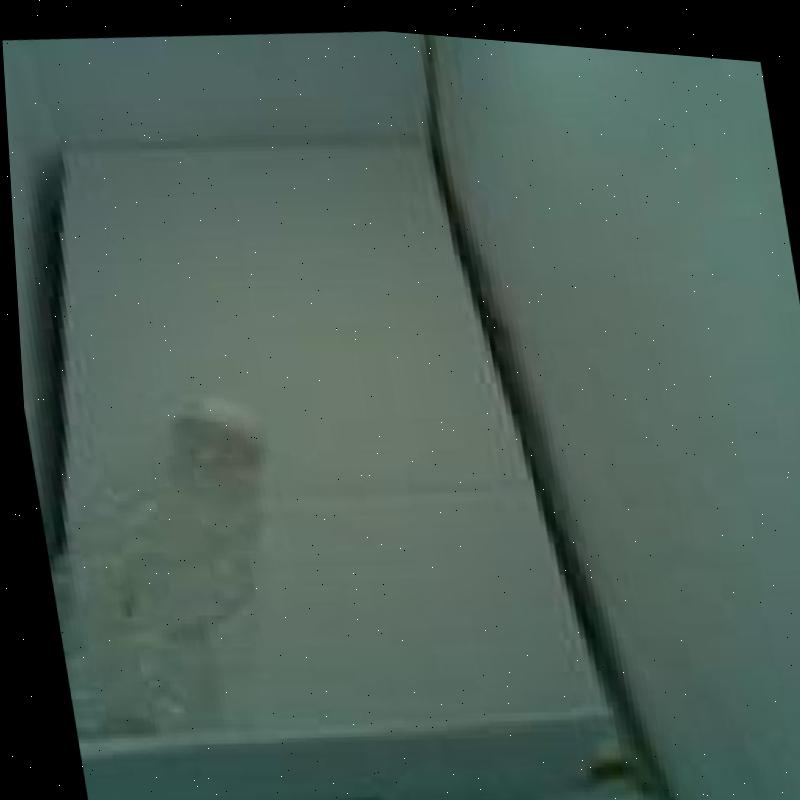botella: (17, 373, 302, 762)
